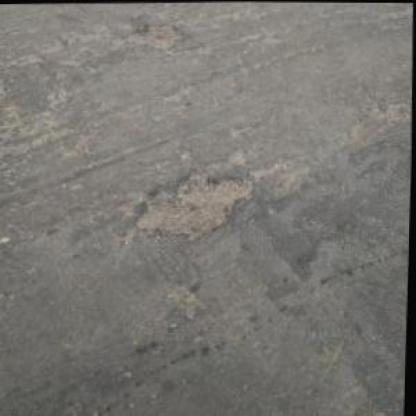pothole: (132, 166, 260, 243), (125, 22, 190, 51)
